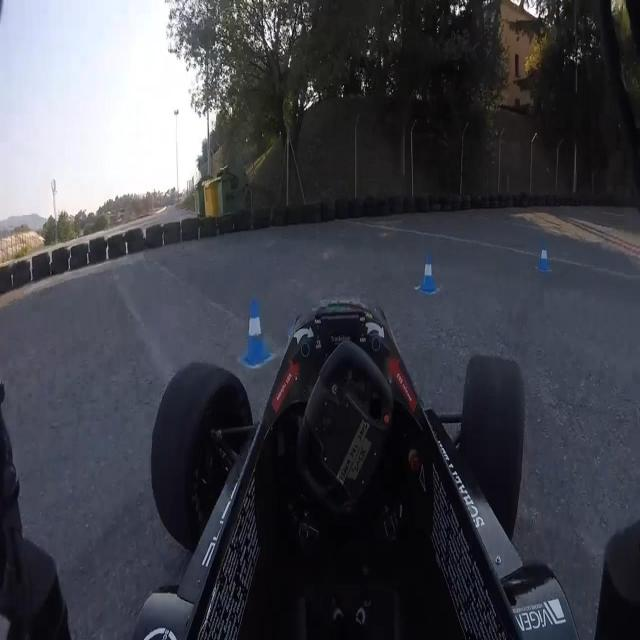blue_cone: (232, 294, 275, 374), (414, 245, 443, 303), (534, 239, 553, 276)
